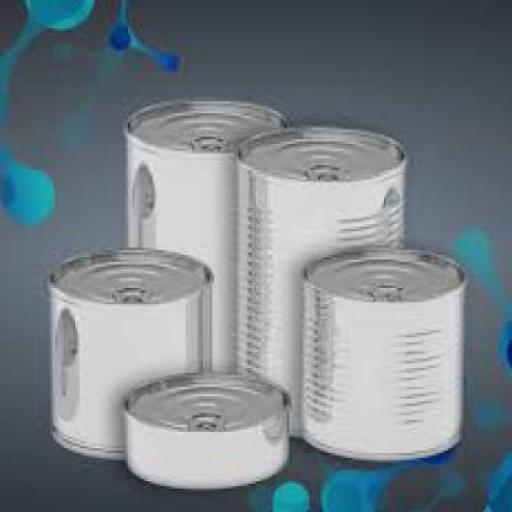metal: (238, 125, 408, 434), (128, 99, 289, 375), (302, 246, 468, 460), (51, 248, 216, 457), (124, 370, 294, 488)
